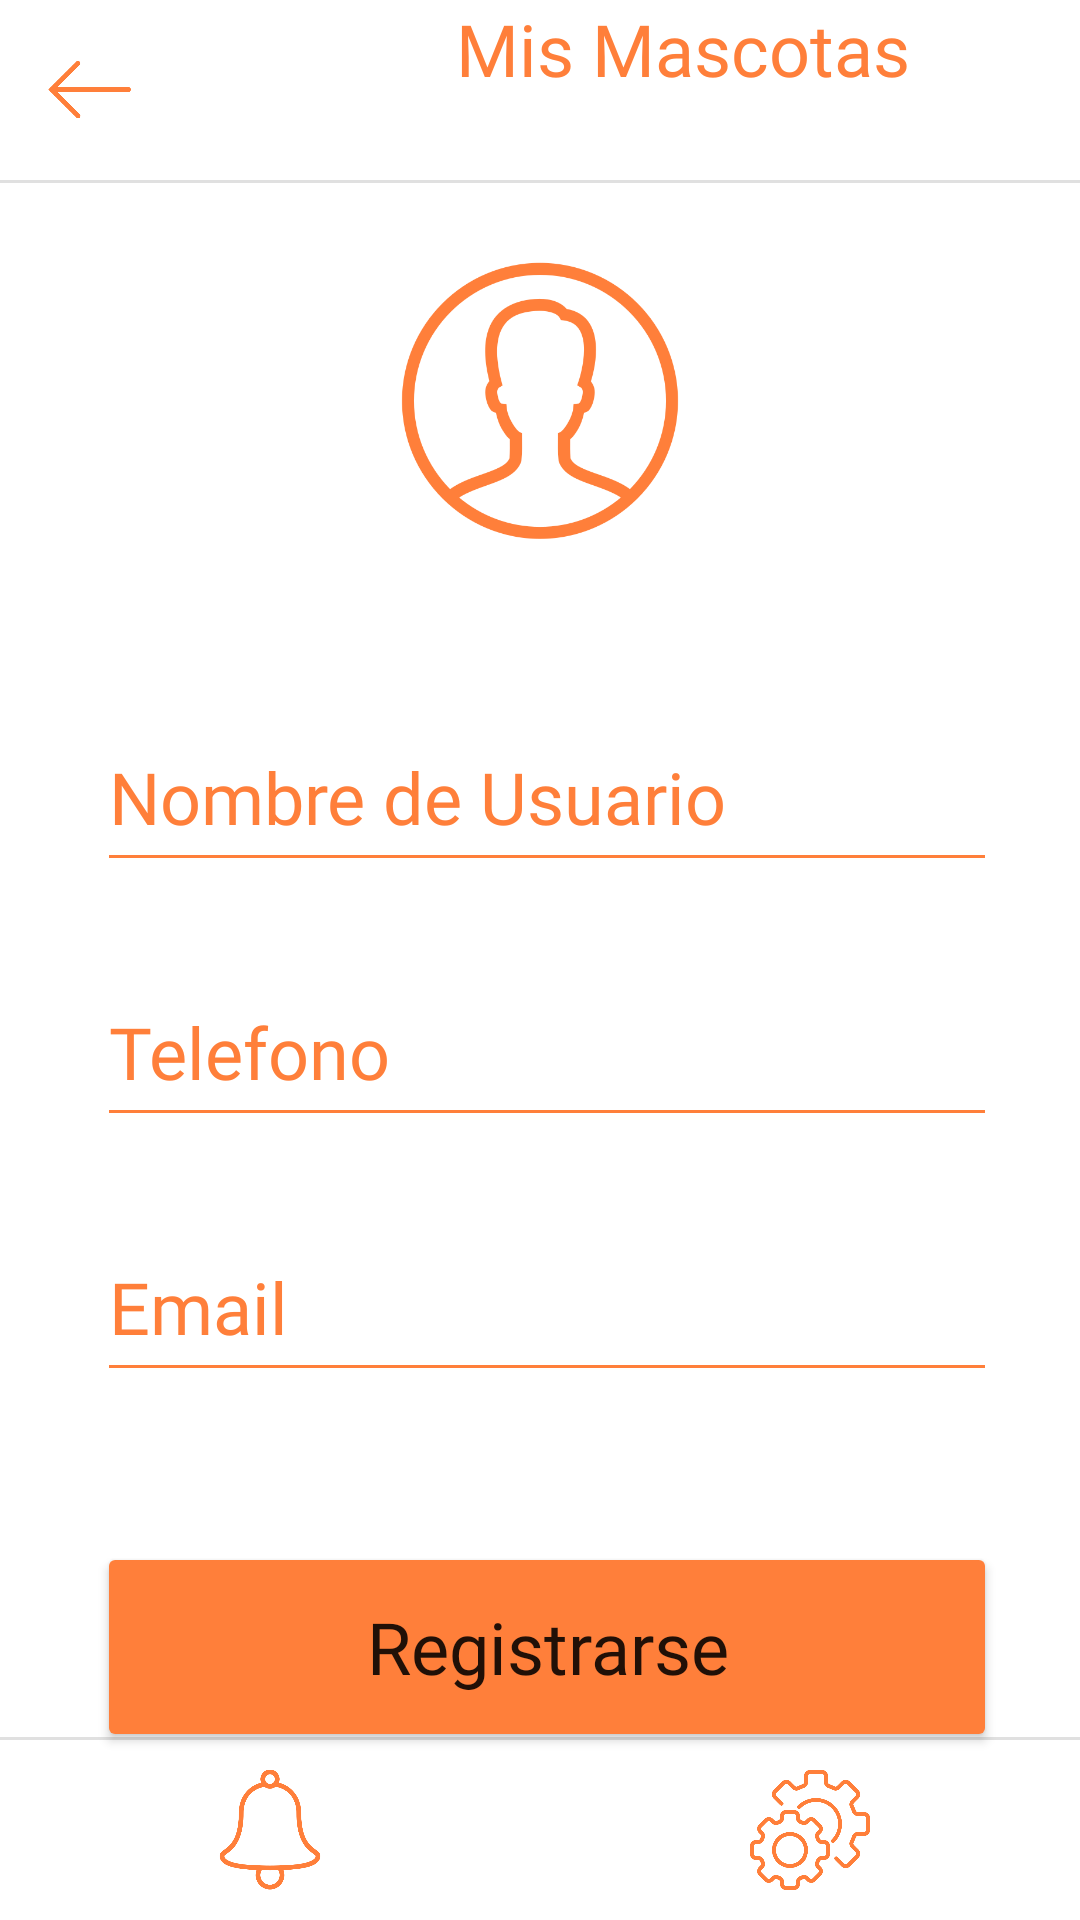

Point at icon controls on the screen. Image size 1080*1920, points as point (x, y).
boton notificaciones: point (270, 1830)
user male circle: point (540, 400)
